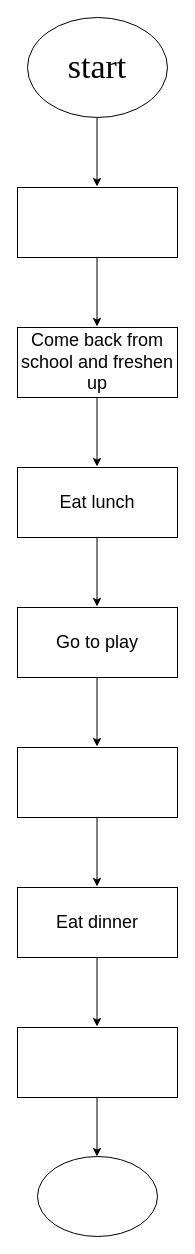
Image size: 195x1254. Some labels were removed from this diagram. The box of each missing label's shape, as (x1, y1, x2, y2) in pixels:
brush teeth and go to sleep: (16, 1026, 178, 1098)
Come back and complete my homework: (16, 746, 178, 818)
get up and got to school: (16, 186, 178, 258)
